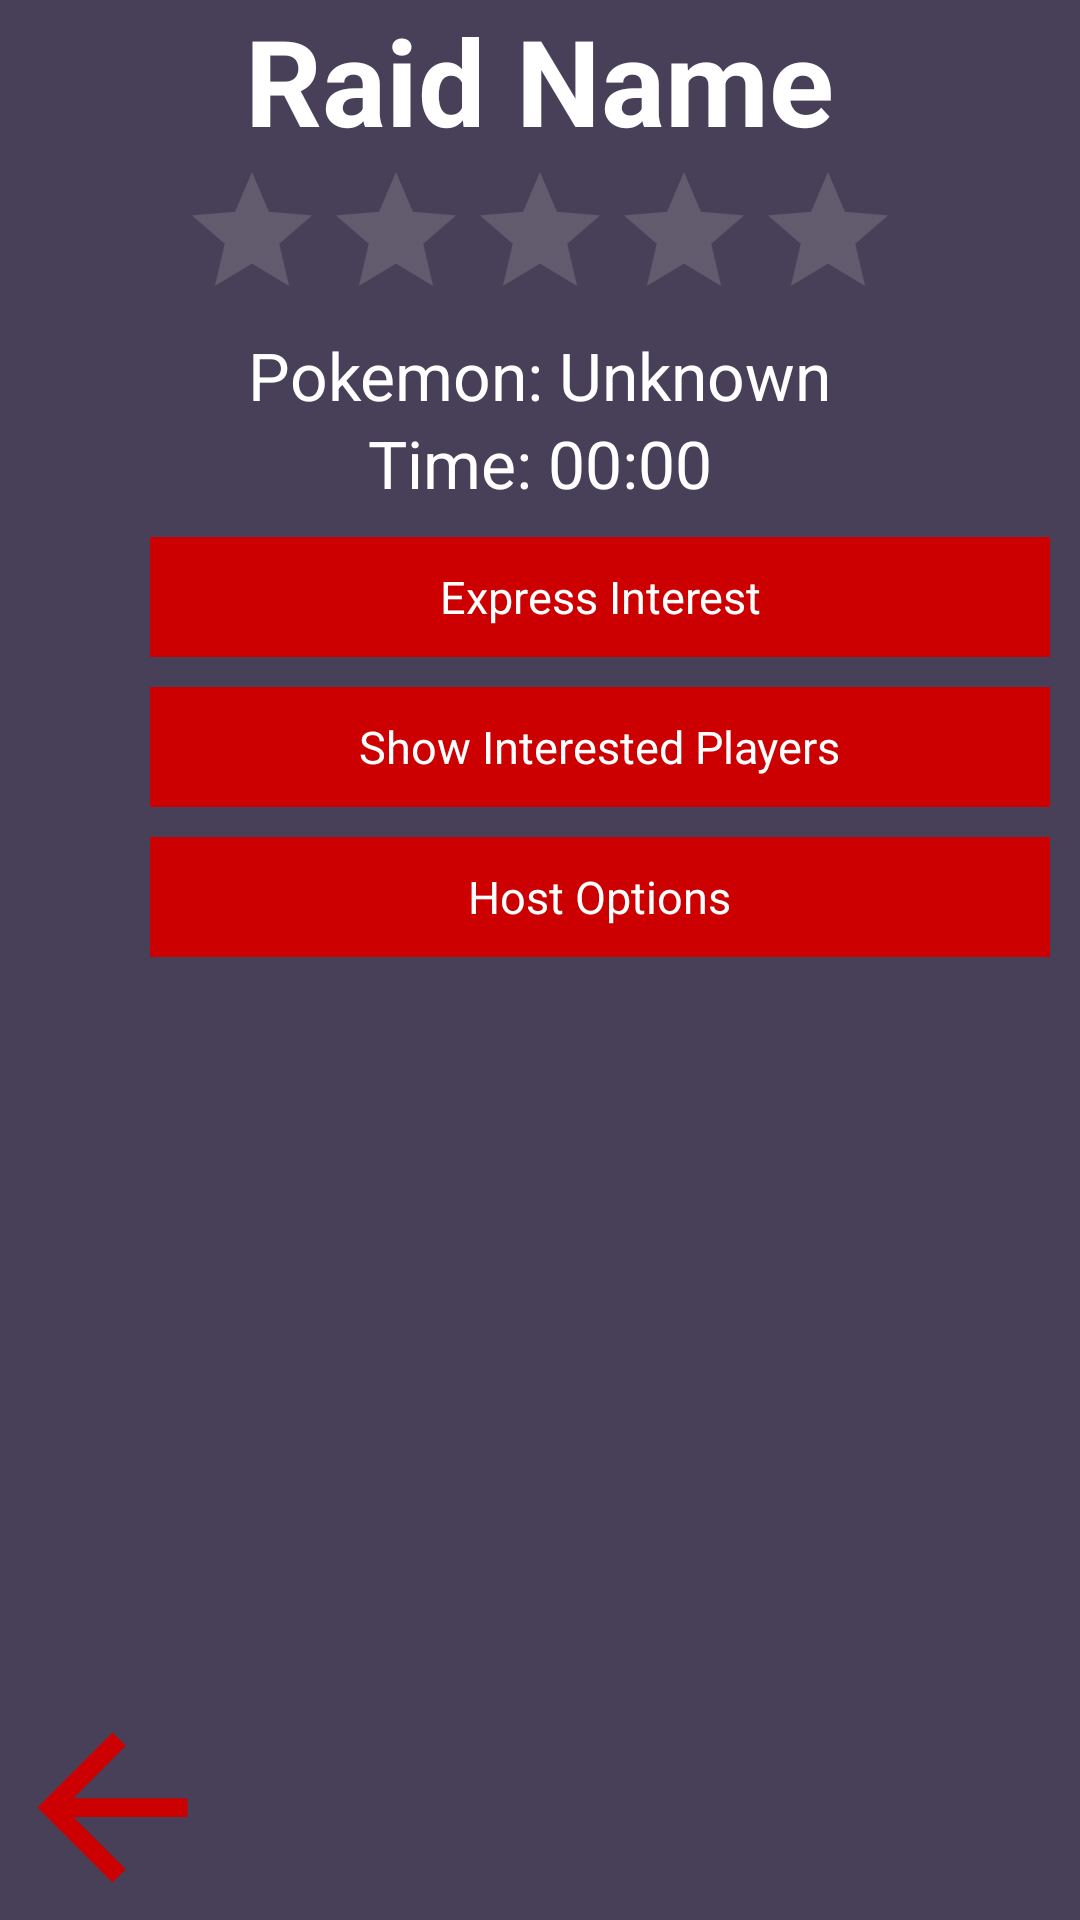

Point at icon controls on the screen. Image size 1080px x 1920px, points as point (x, y).
arrow back: point (112, 1807)
